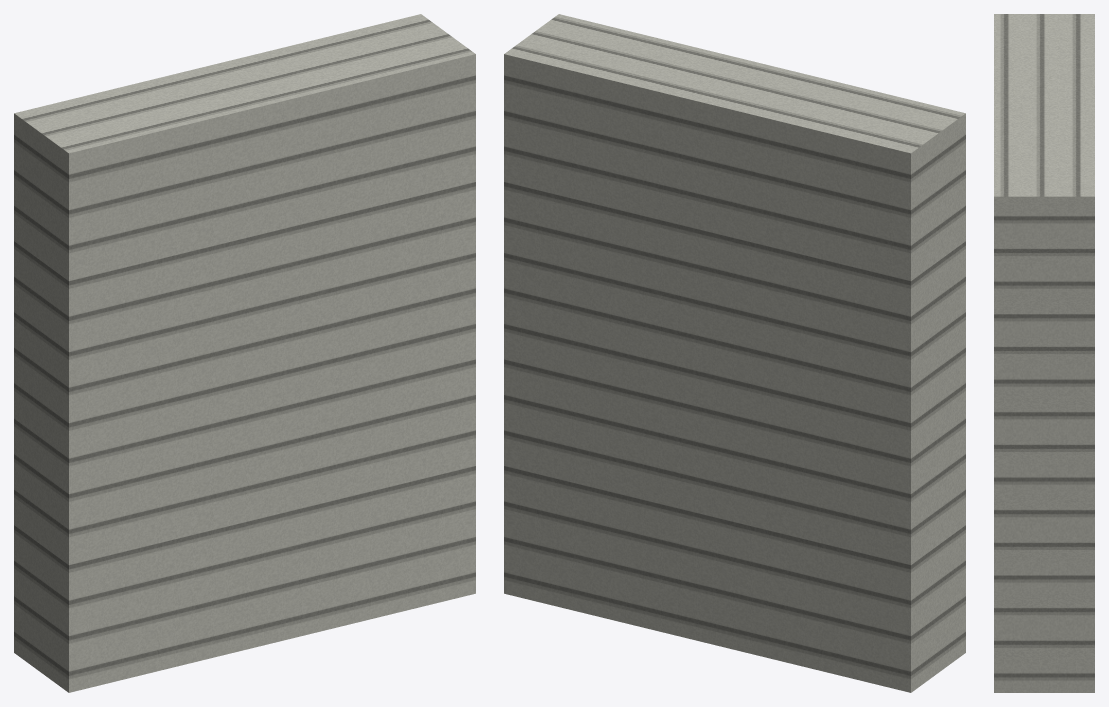
File: turnout_gear_rack.glb
3 views of the same model, side by side, from view 1: azimuth 30°, elevation 25°; view 2: azimuth 150°, elevation 25°; view 3: azimuth 270°, elevation 25° (orthographic). The views are drawn at different scales.
Parts seen in each view (by area): view 1: turnout_gear_rack-col; view 2: turnout_gear_rack-col; view 3: turnout_gear_rack-col.
Boxes of the visible parts, <box> form: turnout_gear_rack-col: <box>14,14,475,692</box>; turnout_gear_rack-col: <box>504,14,965,692</box>; turnout_gear_rack-col: <box>994,14,1094,692</box>.
Bounding box in the file's own units: 1.5 × 1.9 × 0.35.
Materials: 1 (1 with a texture image).
